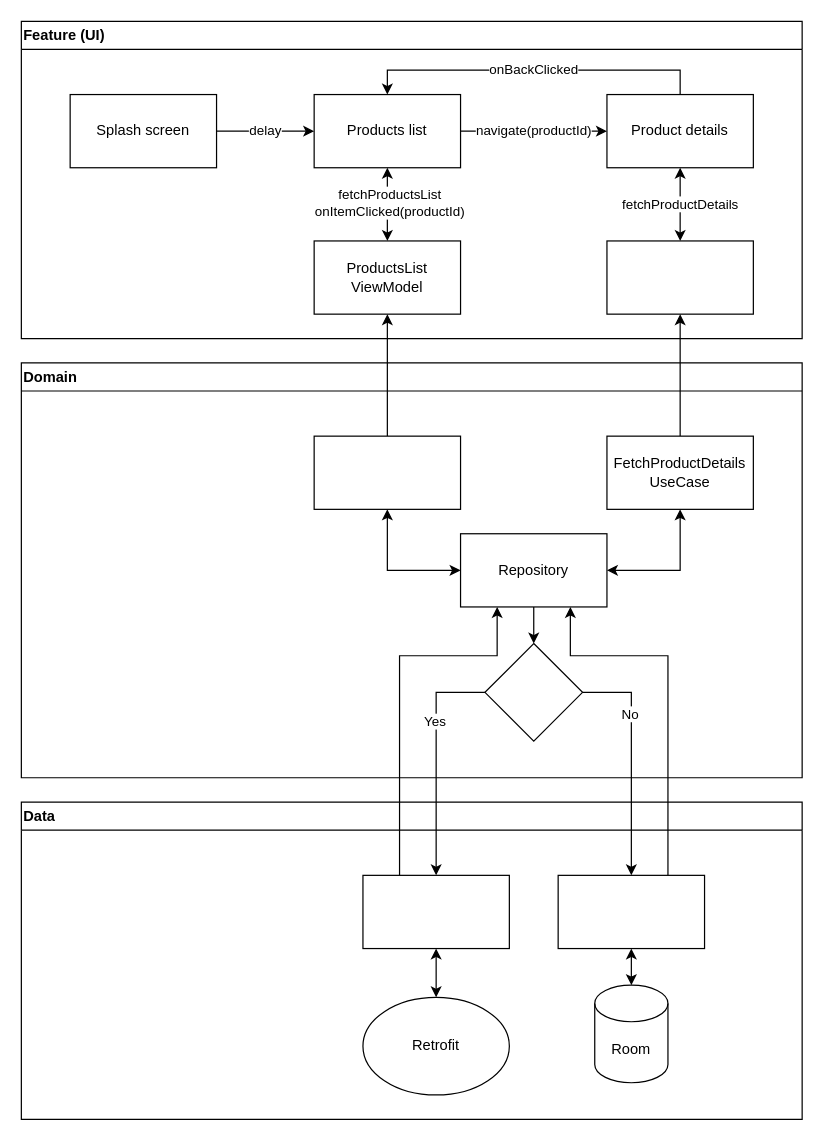
The diagram is 824 pixels wide and 1141 high, and some of its shapes have lost their labels. Here are the shapes that lost their labels. From the top down, the centre of each, then its label:
the point at 679,277: ProductDetails ViewModel
the point at 387,472: FetchProducts UseCase
the point at 533,691: Cache expired
the point at 435,911: RemoteDataStore
the point at 631,911: LocalDataStore
